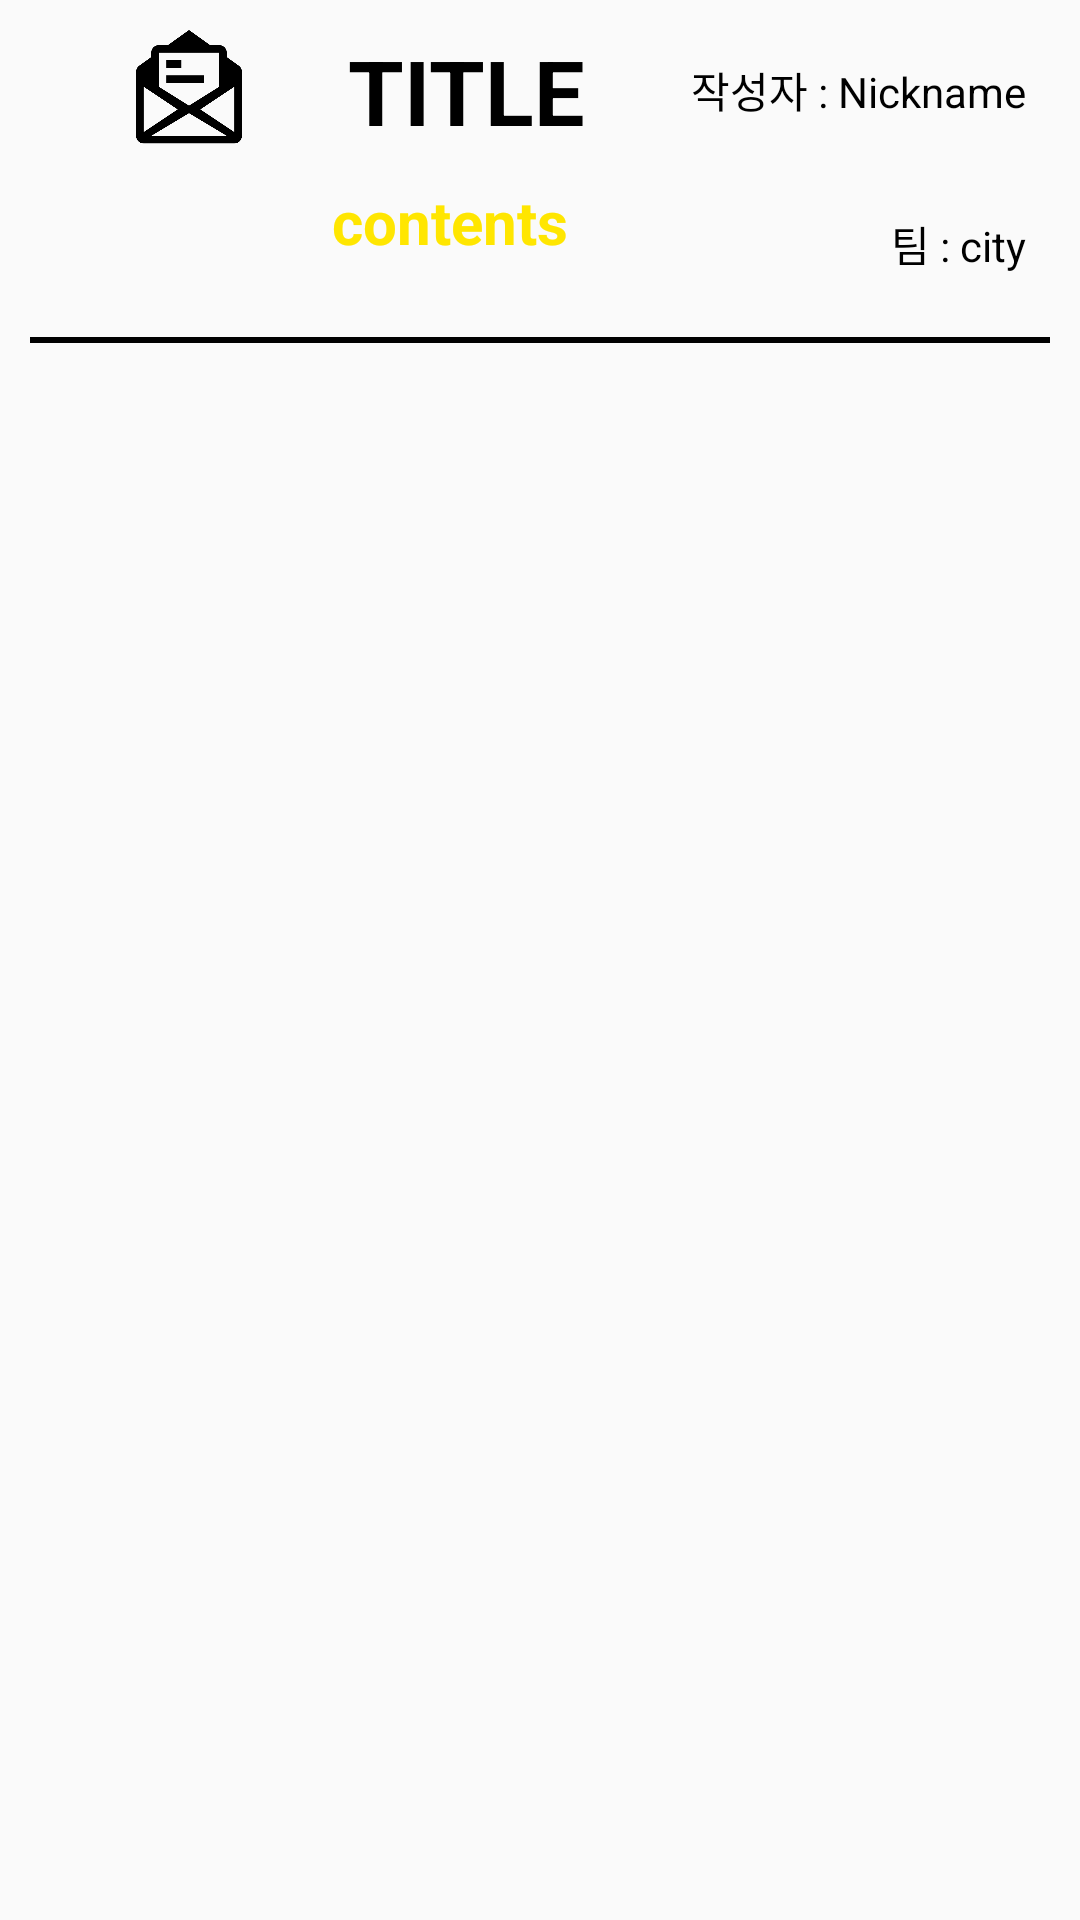

Screen size 1080px x 1920px. Icon name, then its center in pixels as [x,y]:
postshow: [189,87]
